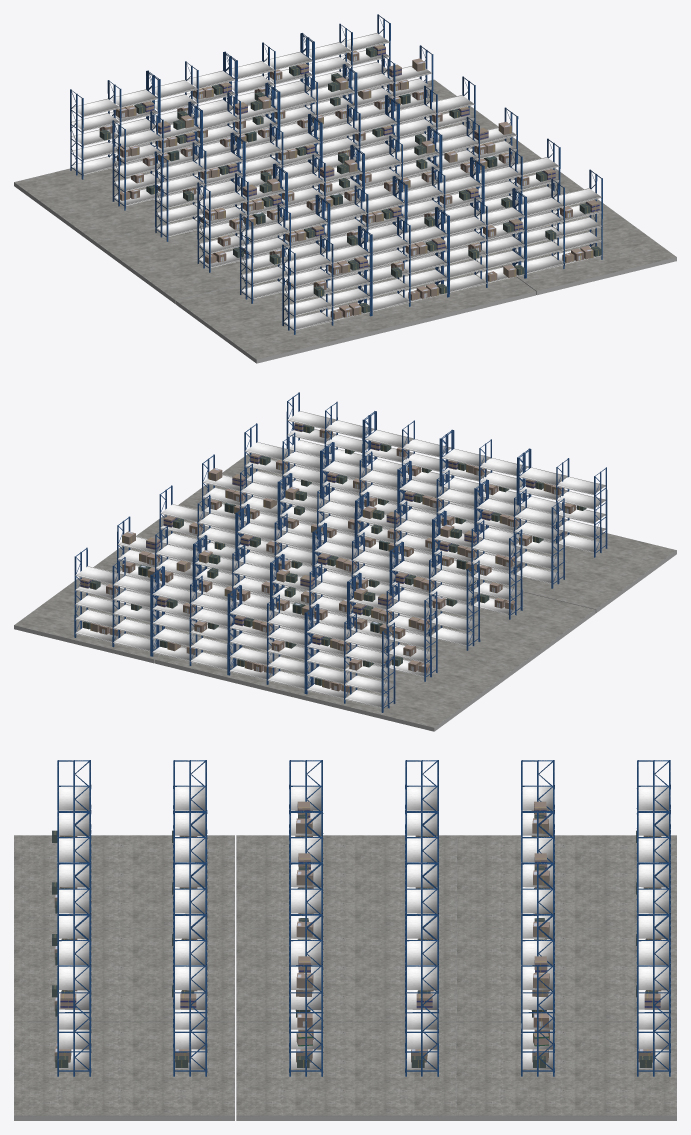
Rendered from skladbig3.glb.
3 views of the same model, one above another, from view 1: azimuth 30°, elevation 25°; view 2: azimuth 150°, elevation 25°; view 3: azimuth 270°, elevation 25° (orthographic). The views are drawn at different scales.
Visible parts, largest first — view 1: mezanine racking.003, Плоскость, Плоскость.001, Плоскость.003, Плоскость.007, Плоскость.004, Плоскость.008, Плоскость.009; view 2: mezanine racking.003, Плоскость.003, Плоскость, Плоскость.001, Плоскость.009, Плоскость.006, Плоскость.007, Плоскость.008; view 3: mezanine racking.003, Плоскость.009, Плоскость.007, Плоскость.008, Плоскость.005, Плоскость.006, Плоскость.001, Плоскость.004, Плоскость, Плоскость.003.
Part boxes in pixels (<box>): mezanine racking.003: <box>70,14,602,334</box>; Плоскость: <box>175,278,396,363</box>; Плоскость.001: <box>94,216,287,303</box>; Плоскость.003: <box>14,158,203,244</box>; Плоскость.007: <box>482,199,676,295</box>; Плоскость.004: <box>346,255,536,329</box>; Плоскость.008: <box>397,138,583,220</box>; Плоскость.009: <box>312,79,514,157</box>; mezanine racking.003: <box>74,392,607,712</box>; Плоскость.003: <box>294,641,514,731</box>; Плоскость: <box>475,524,676,612</box>; Плоскость.001: <box>389,583,595,672</box>; Плоскость.009: <box>14,566,194,663</box>; Плоскость.006: <box>154,633,330,697</box>; Плоскость.007: <box>178,453,364,536</box>; Плоскость.008: <box>95,515,246,598</box>; mezanine racking.003: <box>57,760,670,1076</box>; Плоскость.009: <box>456,1022,676,1120</box>; Плоскость.007: <box>14,1022,234,1120</box>; Плоскость.008: <box>236,1022,456,1120</box>; Плоскость.005: <box>236,928,456,1022</box>; Плоскость.006: <box>456,928,676,1022</box>; Плоскость.001: <box>236,835,456,928</box>; Плоскость.004: <box>14,928,234,1022</box>; Плоскость: <box>14,835,234,928</box>; Плоскость.003: <box>457,835,676,928</box>.
Bounding box in the file's own units: 638 × 124 × 637.
Materials: 6 (6 with a texture image).
